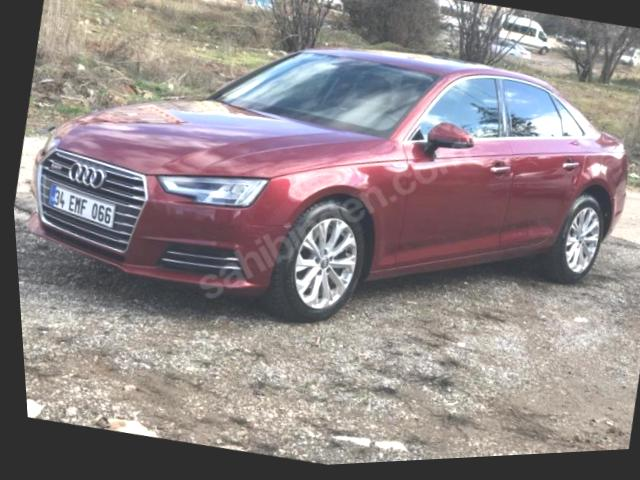plaka: (48, 186, 113, 228)
